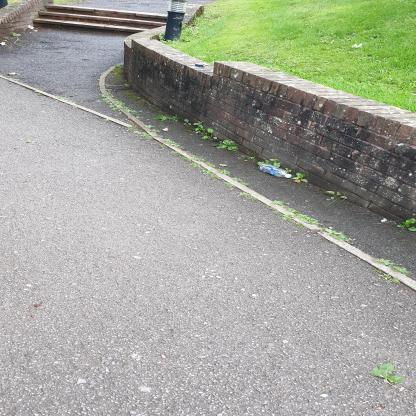karton: (196, 63, 210, 68)
plastik: (259, 165, 293, 180)
